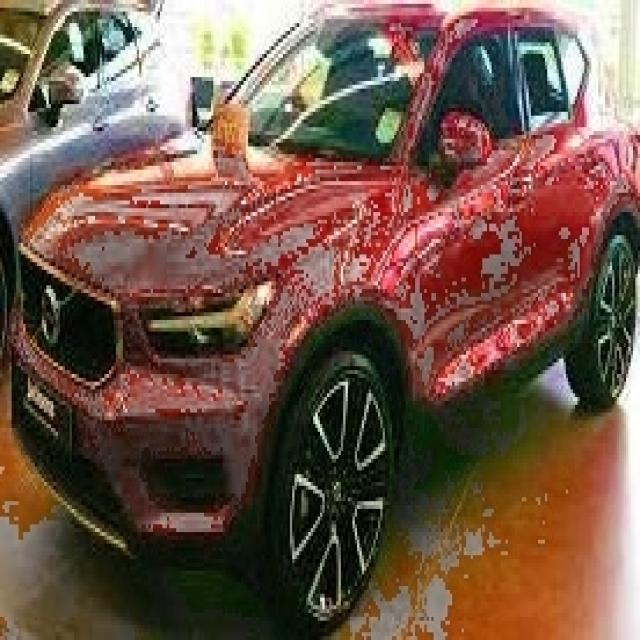maroon: (41, 23, 640, 532)
